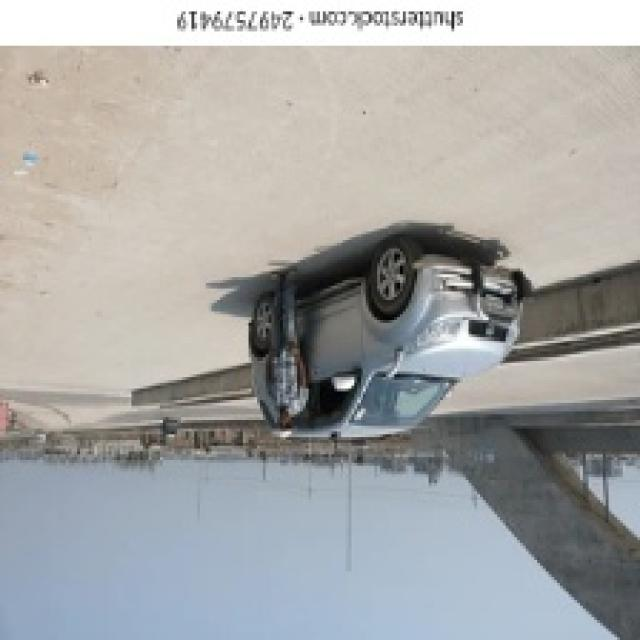car: (255, 252, 541, 453)
